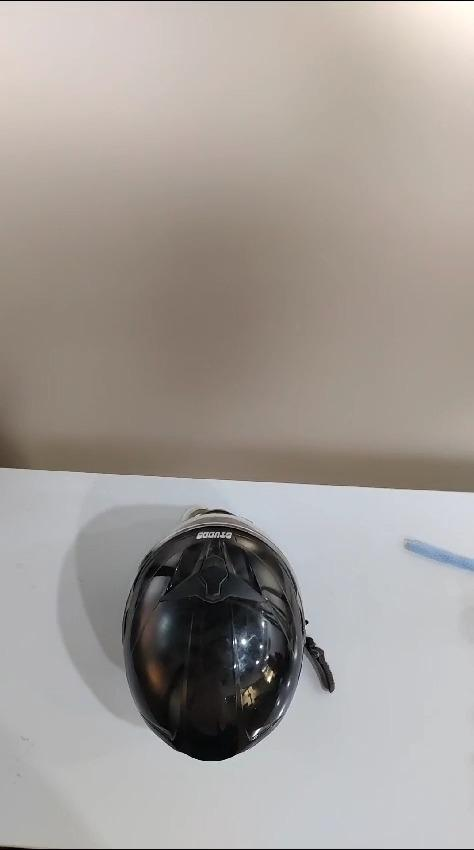Helmet: (122, 502, 314, 764)
